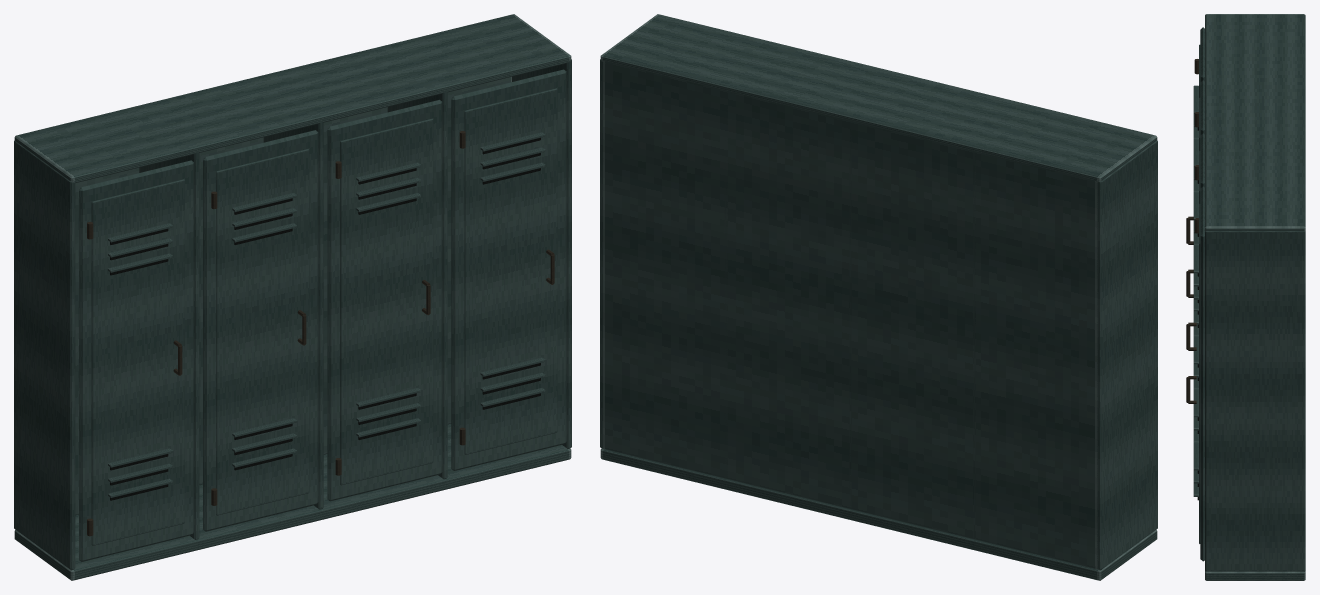
The model's file is level_lockers.glb.
3 renders of one model, left to right at view 1: azimuth 30°, elevation 25°; view 2: azimuth 150°, elevation 25°; view 3: azimuth 270°, elevation 25°, orthographic. The views are drawn at different scales.
Visible parts, largest first — view 1: level_lockers; view 2: level_lockers; view 3: level_lockers.
Part boxes in pixels (bbox=[...]): level_lockers: bbox=[14, 14, 571, 580]; level_lockers: bbox=[600, 14, 1157, 580]; level_lockers: bbox=[1186, 14, 1305, 580].
Size of the model in its own units: 2.43 by 1.87 by 0.569.
3 materials, 3 textured.
